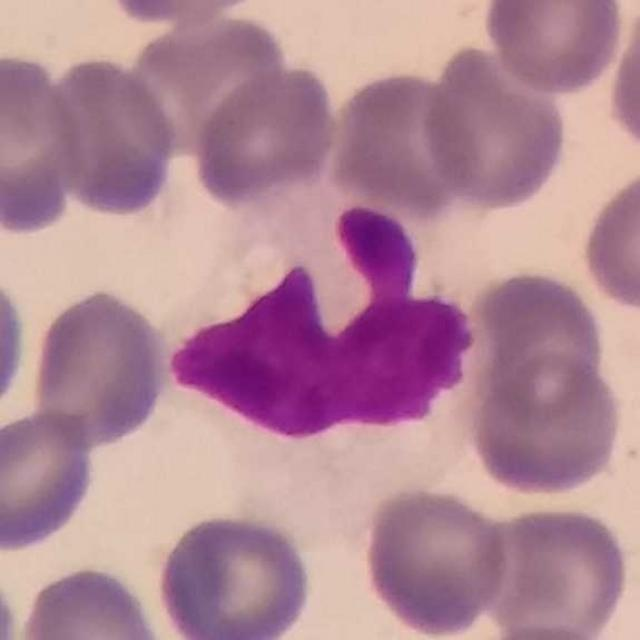mono: (136, 159, 490, 544)
